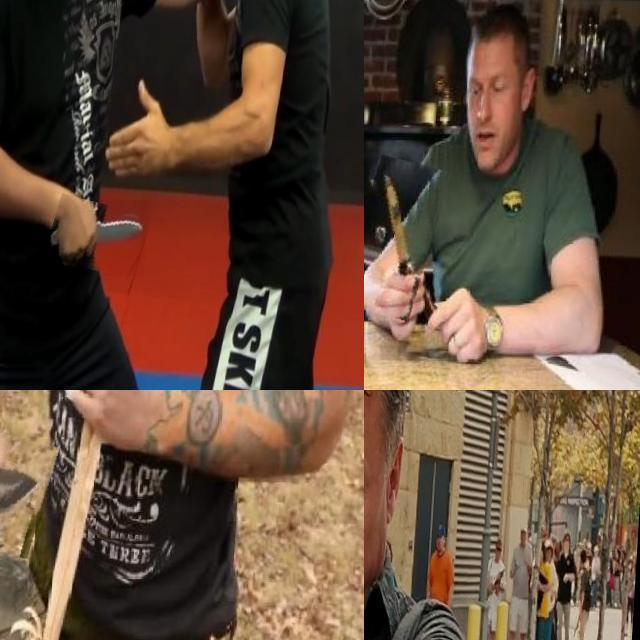-: (364, 155, 446, 317), (0, 423, 67, 552), (51, 198, 154, 274)
gun-knife-thesis - v11 Yolov5 augmented: (364, 411, 436, 640)
